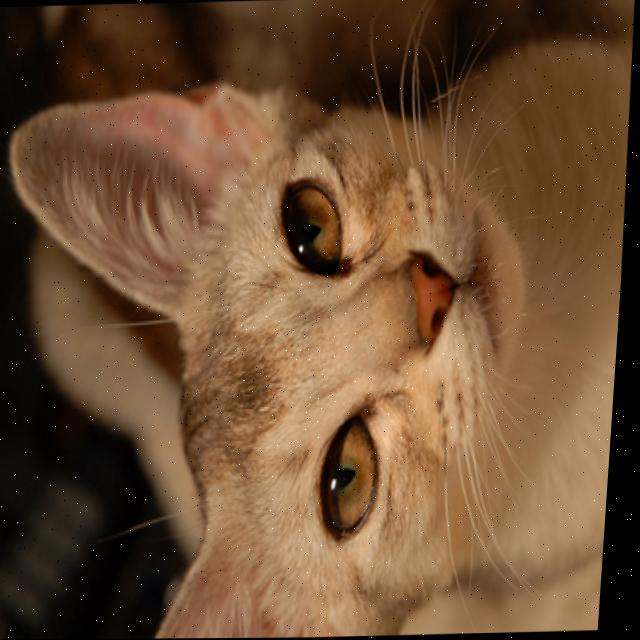Abyssinian: (0, 15, 639, 640)
